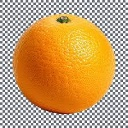orange: (13, 13, 117, 115)
